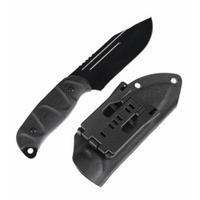knife: (12, 9, 152, 163)
